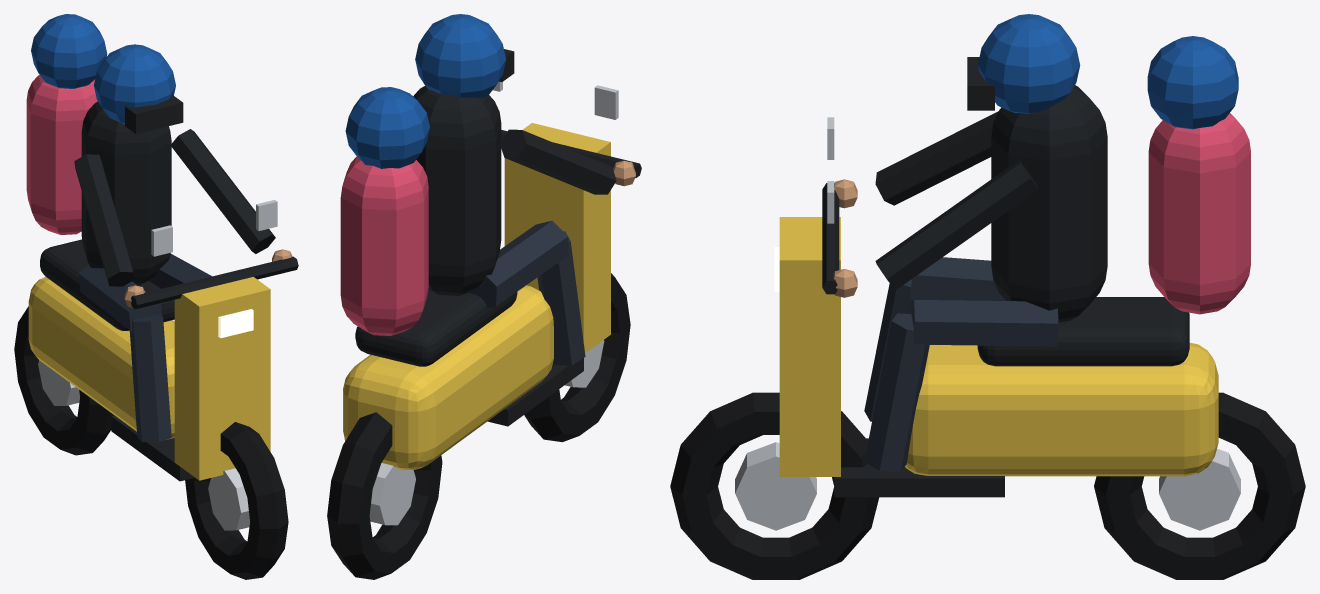
The model's file is motorbike_f.glb.
3 views of the same model, side by side, from view 1: azimuth 30°, elevation 25°; view 2: azimuth 150°, elevation 25°; view 3: azimuth 270°, elevation 25° (orthographic). The views are drawn at different scales.
Visible parts, largest first — view 1: moto; view 2: moto; view 3: moto.
Part boxes in pixels (<box>): moto: <box>14,14,298,579</box>; moto: <box>327,14,641,579</box>; moto: <box>670,14,1305,579</box>.
Bounding box in the file's own units: 0.71 × 1.81 × 1.86.
